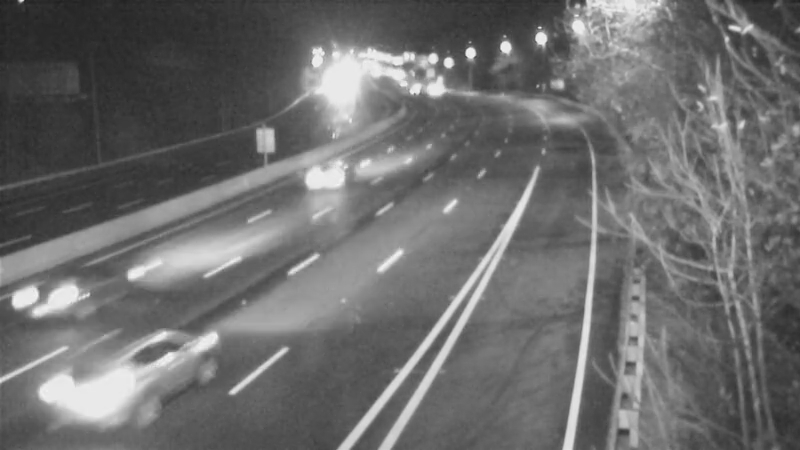vehicle: (44, 341, 154, 450), (282, 142, 362, 222), (12, 257, 92, 337), (411, 71, 461, 121), (385, 65, 435, 115)
